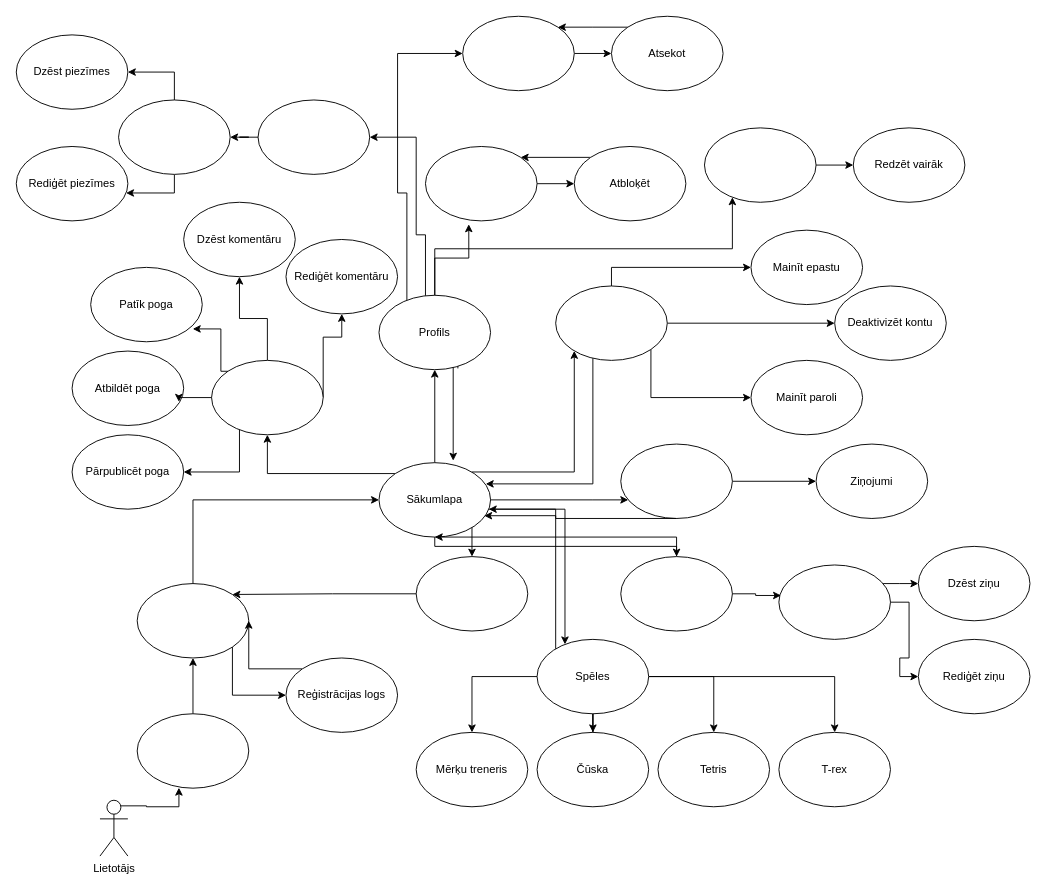
The diagram is 1046 pixels wide and 892 high, and some of its shapes have lost their labels. The shapes that lost their labels are listed below. From the top down, each one's centre as x and y in pixels, then its label:
(518,53): Sekot
(174,136): Rakstīt piezīmes
(313,136): Piezīmju bloks
(481,183): Bloķēt
(760,164): Komentāri
(611,322): Iestatījumi
(267,397): Komentēt
(676,480): Paziņojumi
(471,593): Atslēgties
(676,593): Čats
(834,601): Sarunas
(192,620): Pieslēgšanās logs
(192,750): Aiziet uz mājaslapu
